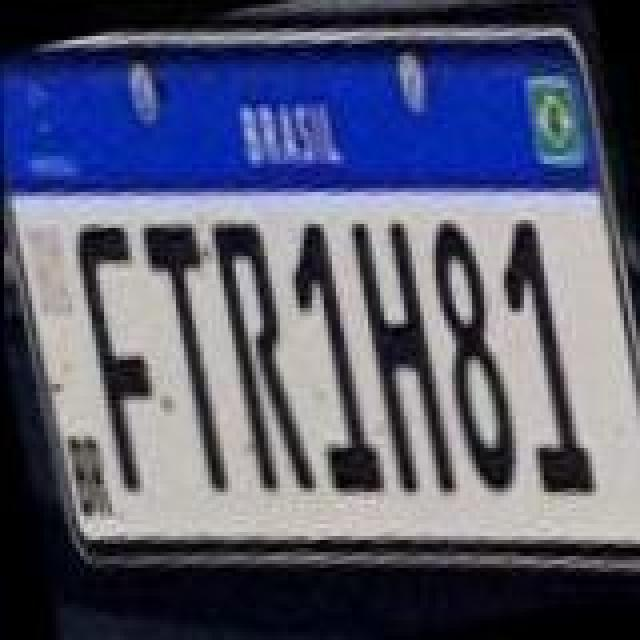1: (486, 214, 594, 506), (280, 218, 384, 502)
8: (414, 212, 522, 504)
F: (70, 214, 178, 498)
H: (344, 210, 456, 506)
R: (206, 212, 314, 504)
T: (134, 212, 242, 496)
